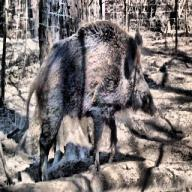boar: (18, 19, 157, 182)
